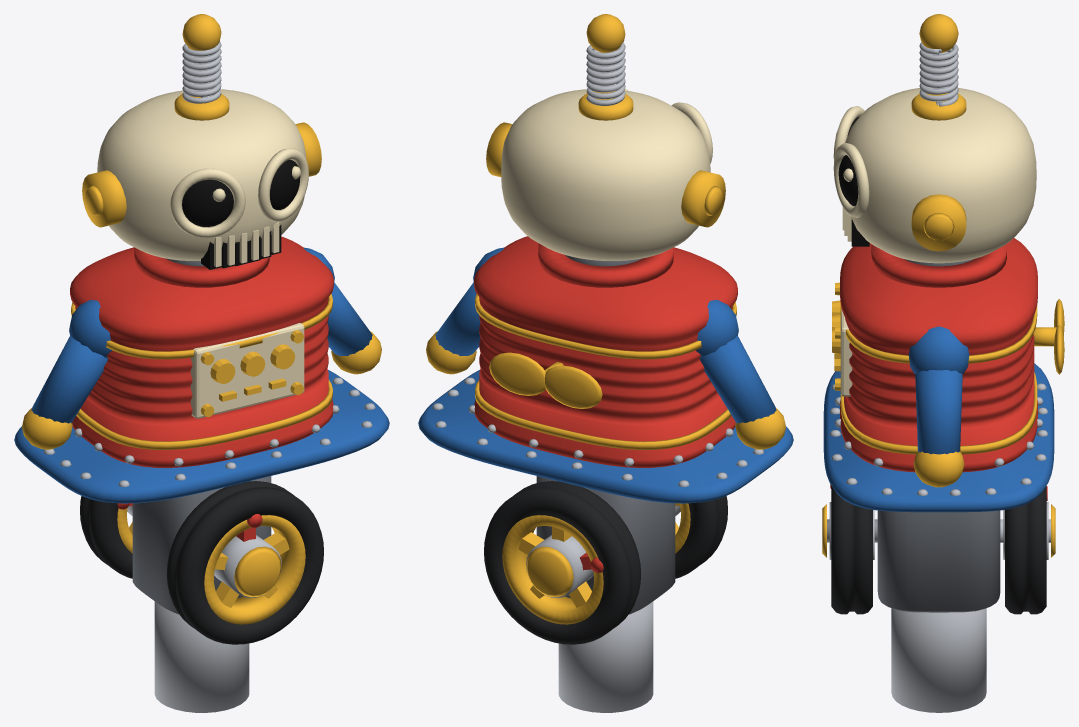
Rendered from figure.glb.
The picture shows the model from 3 angles, left to right: view 1: azimuth 30°, elevation 25°; view 2: azimuth 150°, elevation 25°; view 3: azimuth 270°, elevation 25°; orthographic projection.
Visible parts, largest first — view 1: figure_body, figure_wheel_front, figure_antenna, figure_wheel_back; view 2: figure_body, figure_wheel_back, figure_antenna, figure_wheel_front; view 3: figure_body, figure_wheel_back, figure_wheel_front, figure_antenna.
Part boxes in pixels (x1=…): figure_body: x1=14, y1=88, x2=389, y2=712; figure_wheel_front: x1=166, y1=481, x2=323, y2=644; figure_antenna: x1=174, y1=14, x2=229, y2=120; figure_wheel_back: x1=80, y1=496, x2=132, y2=578; figure_body: x1=418, y1=89, x2=793, y2=712; figure_wheel_back: x1=484, y1=481, x2=641, y2=644; figure_antenna: x1=578, y1=14, x2=633, y2=120; figure_wheel_front: x1=675, y1=496, x2=727, y2=578; figure_body: x1=822, y1=88, x2=1064, y2=712; figure_wheel_back: x1=1003, y1=486, x2=1048, y2=614; figure_wheel_front: x1=829, y1=484, x2=874, y2=614; figure_antenna: x1=911, y1=14, x2=966, y2=120.
Size of the model in its own units: 0.0343 by 0.0627 by 0.0204.
